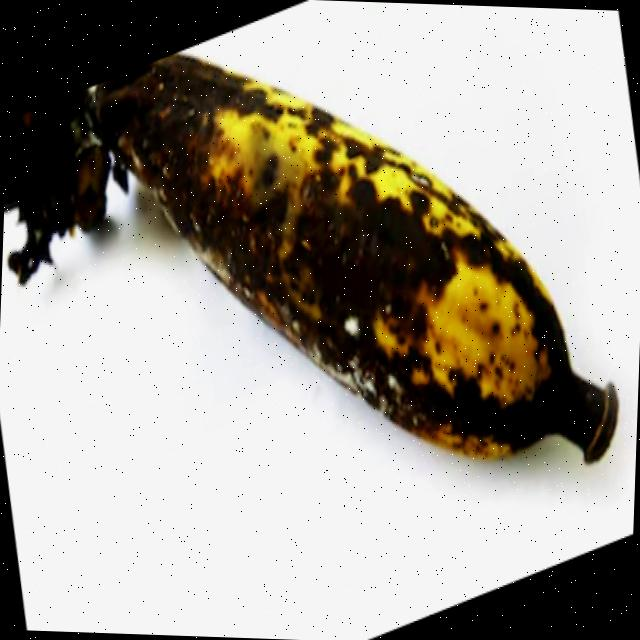Rotten: (0, 0, 631, 500)
